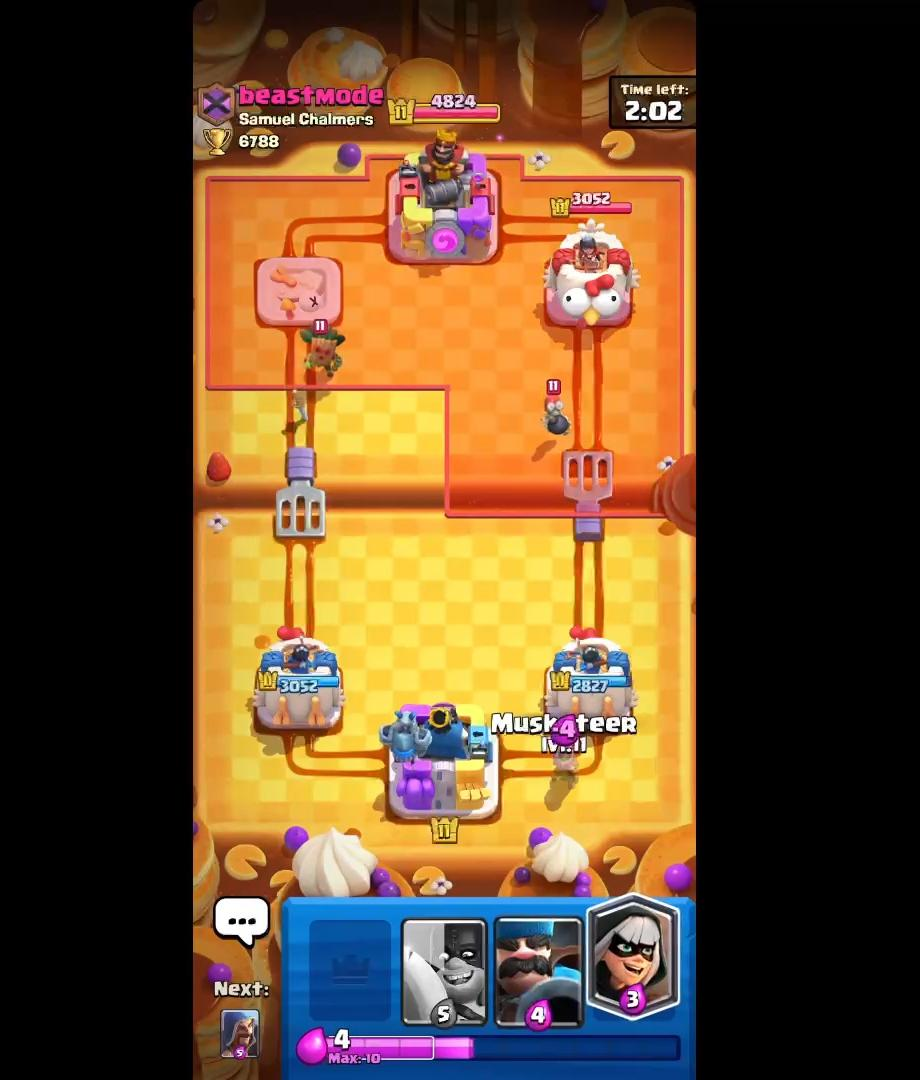Bomber: (535, 376, 570, 438)
Dart Goblin: (302, 315, 352, 380)
